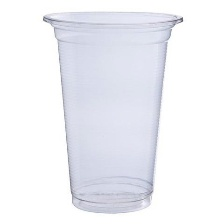glass: (40, 8, 186, 218)
